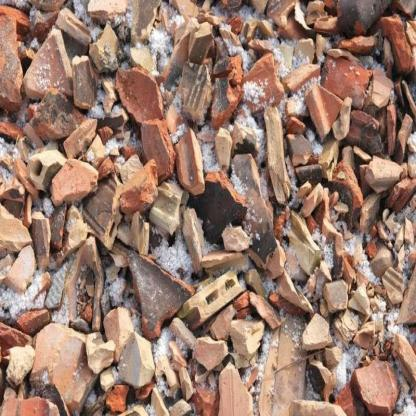brick: (5, 5, 416, 416)
